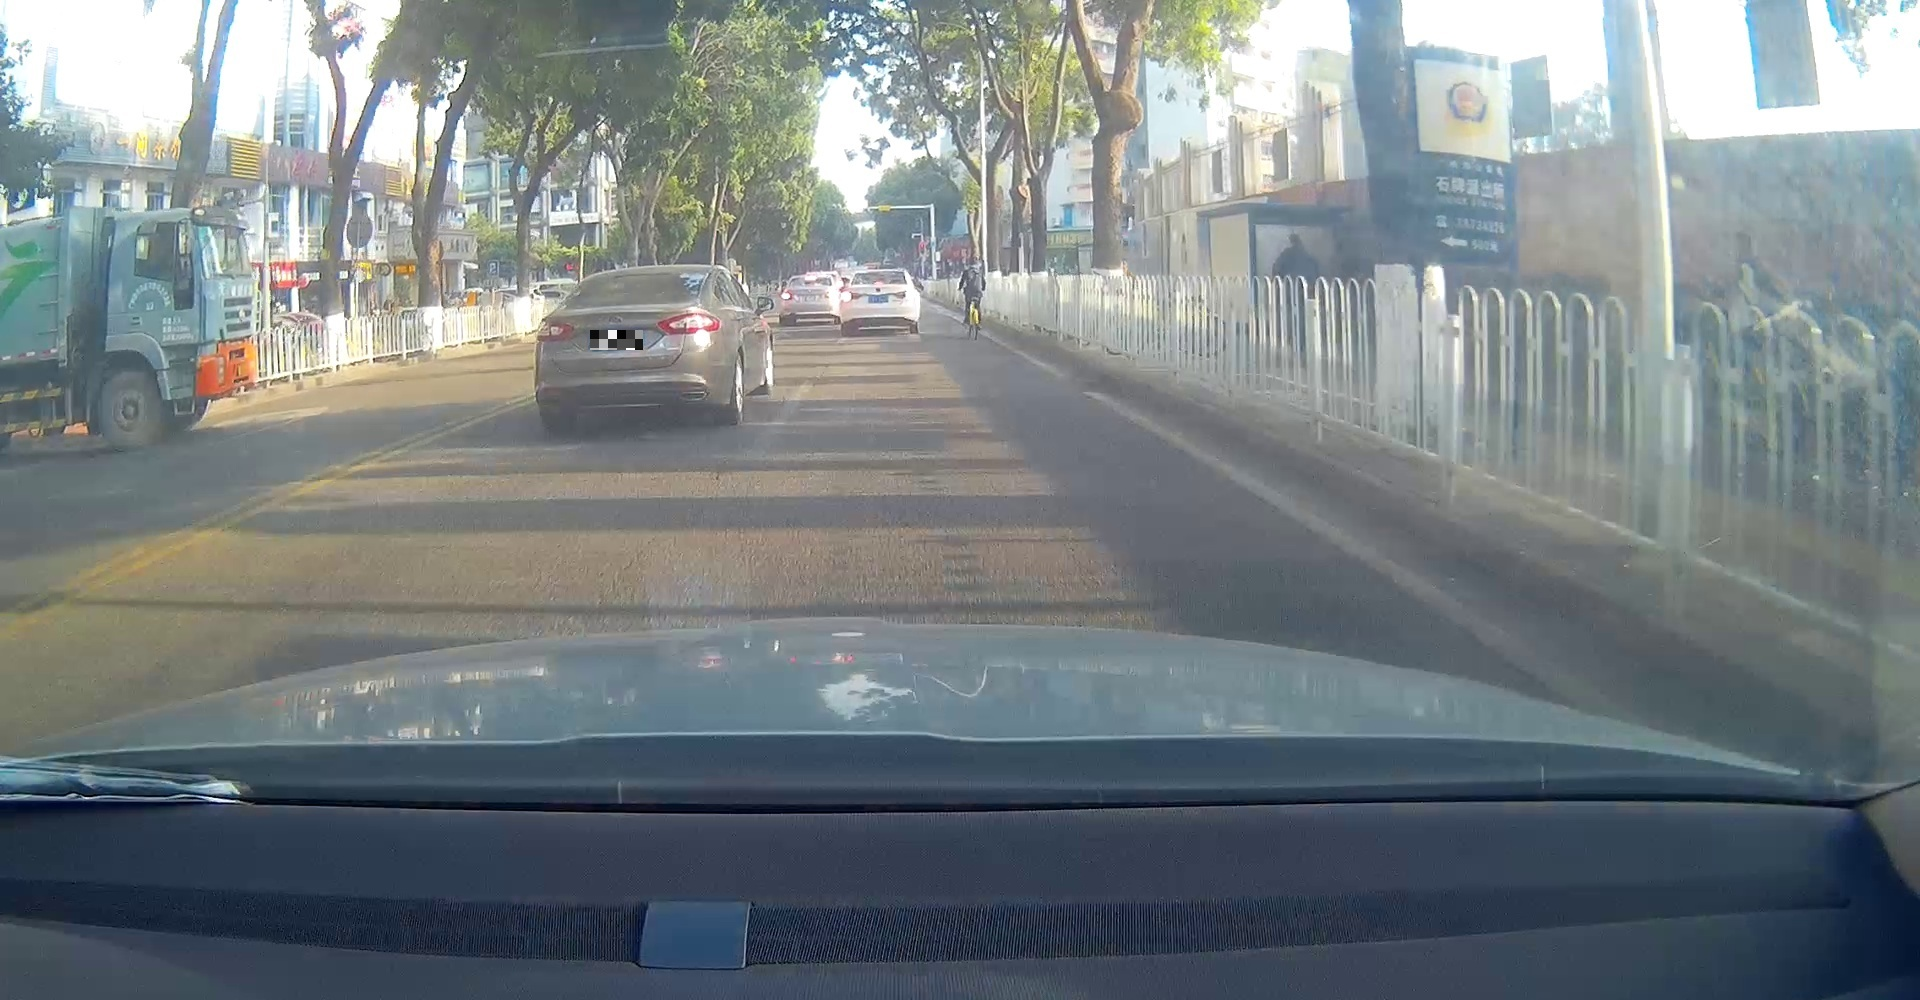L_light: (536, 319, 575, 343), (841, 292, 861, 301), (782, 291, 792, 299)
R_light: (655, 311, 721, 336), (893, 291, 910, 299), (825, 291, 837, 298)
T_light: (616, 275, 643, 284), (874, 272, 886, 277), (805, 277, 817, 280)
day-brake: (780, 275, 838, 326)
day-no: (535, 264, 723, 435), (839, 268, 912, 338)
plate_1: (590, 330, 643, 350)
